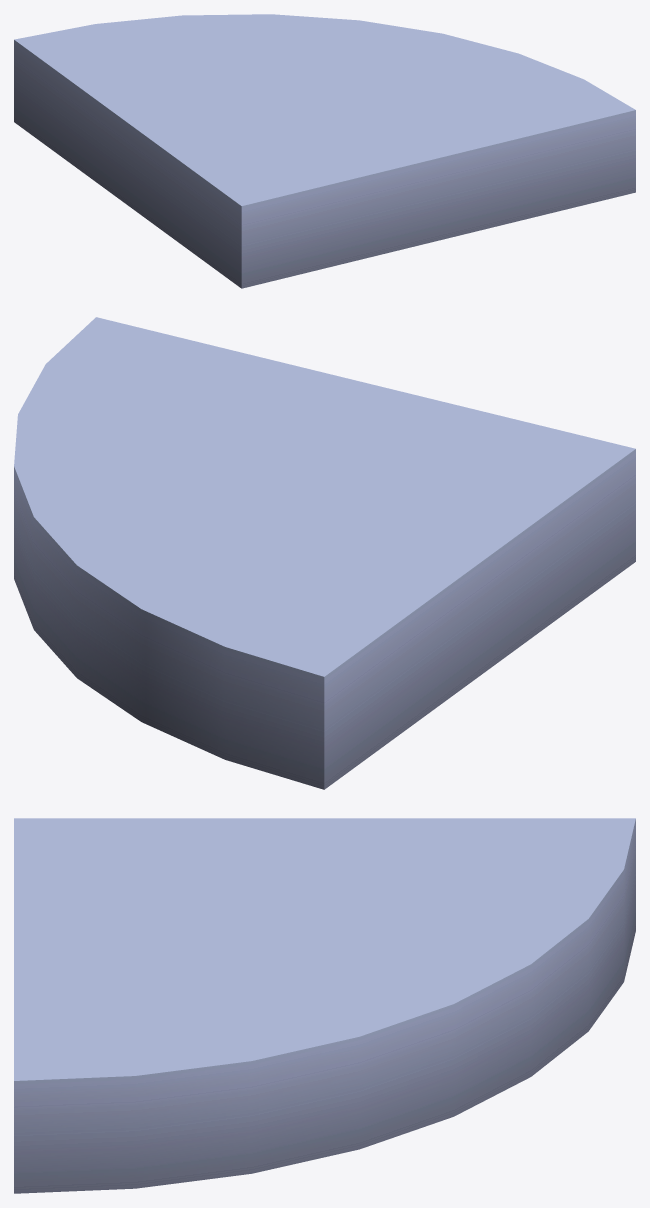
The model's file is floor-thick-corner-round.glb.
3 renders of one model, top to bottom at view 1: azimuth 30°, elevation 25°; view 2: azimuth 150°, elevation 25°; view 3: azimuth 270°, elevation 25°, orthographic. The views are drawn at different scales.
Visible parts, largest first — view 1: floor-thick-corner-round; view 2: floor-thick-corner-round; view 3: floor-thick-corner-round.
Boxes of the visible parts, bbox=[...] form: floor-thick-corner-round: bbox=[14, 14, 635, 288]; floor-thick-corner-round: bbox=[14, 317, 635, 789]; floor-thick-corner-round: bbox=[14, 818, 635, 1193].
Size of the model in its own units: 1 by 0.2 by 1.
Materials: 1 (1 with a texture image).
